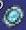mirror: (1, 1, 26, 30)
